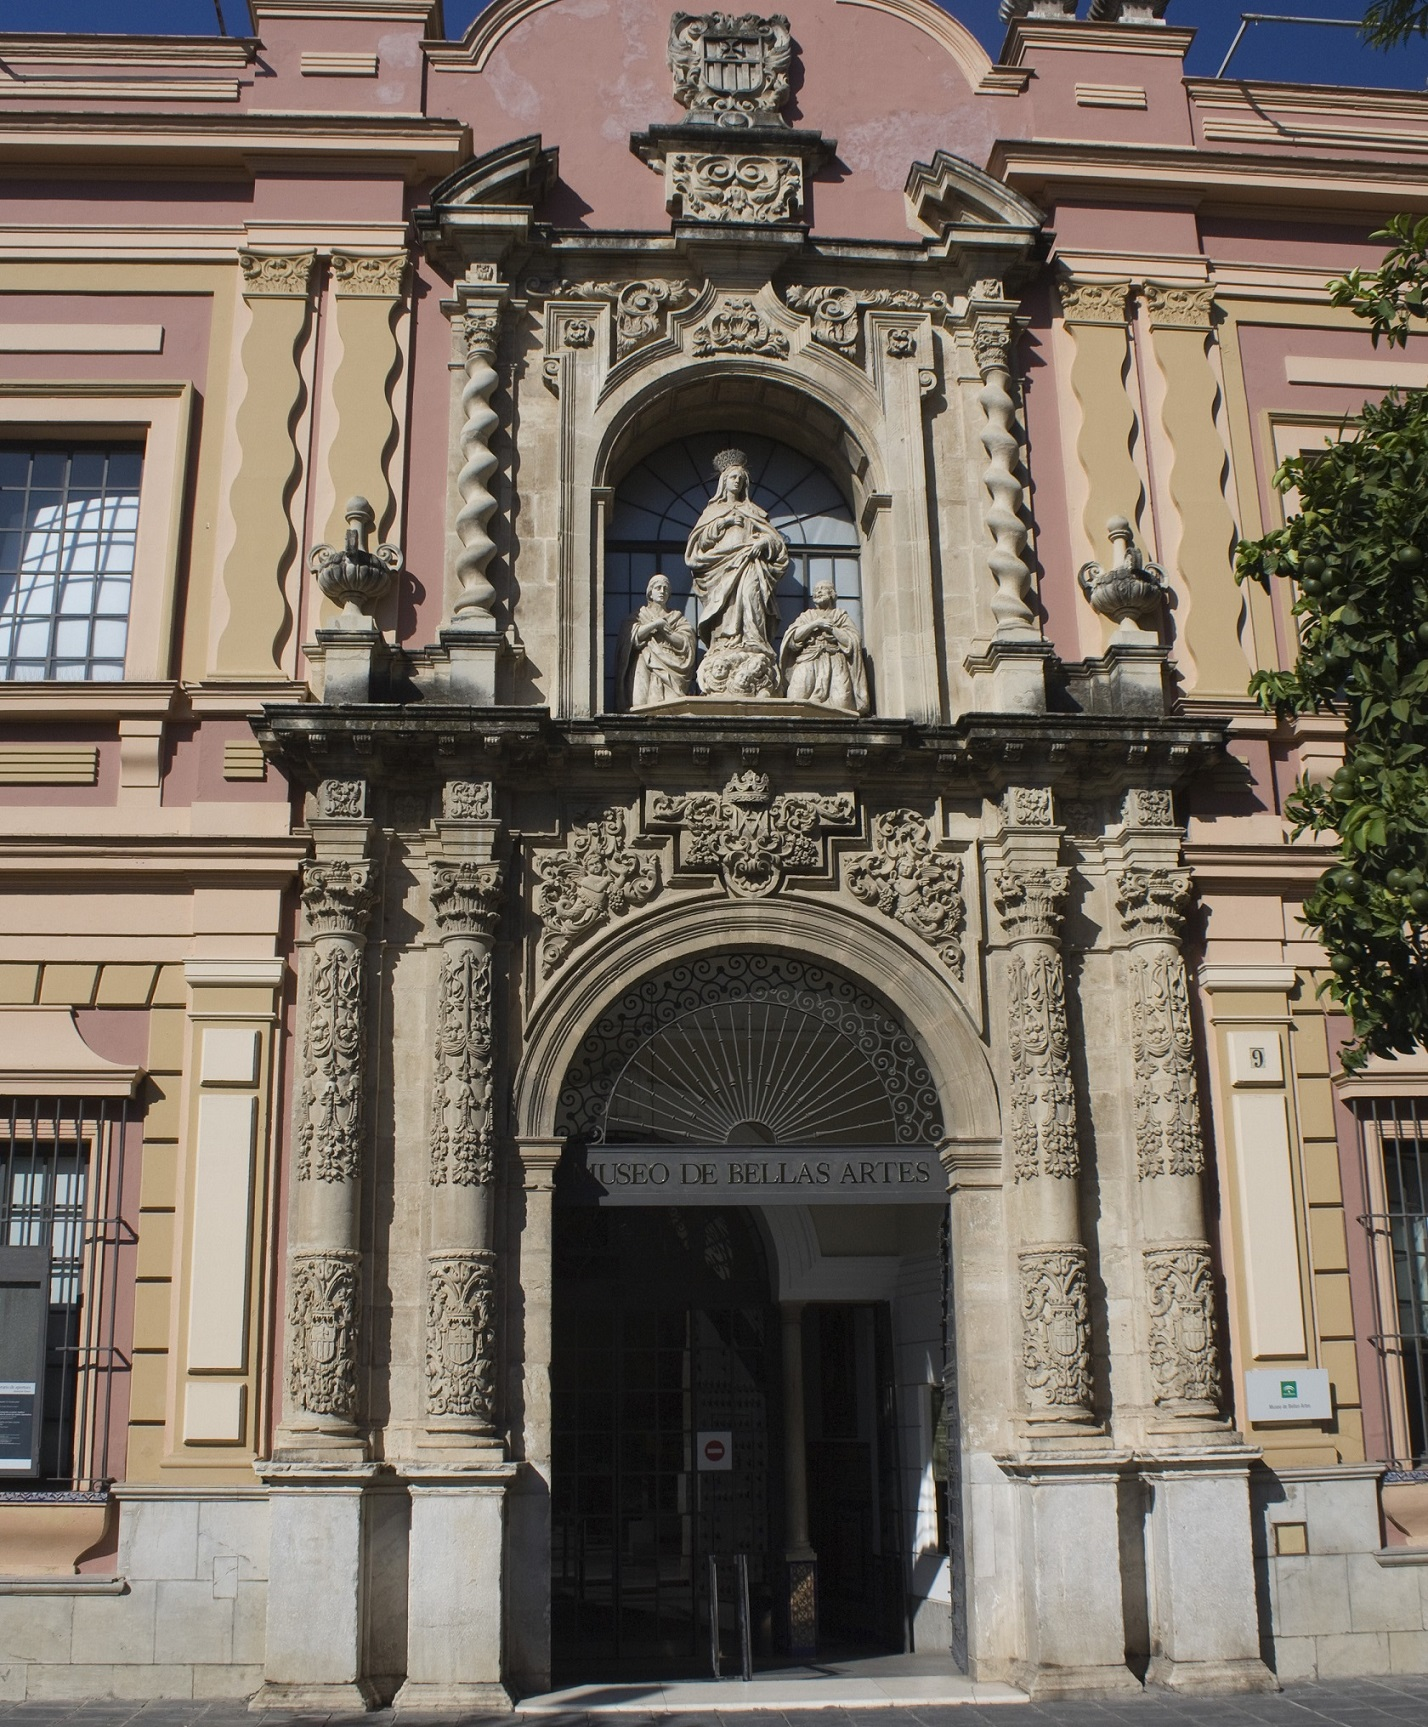arco-medio-punto: (523, 908, 984, 1231), (588, 351, 890, 534)
columna-salomonica: (971, 356, 1051, 648), (449, 339, 512, 634)
fronton-partido: (419, 125, 1071, 268)
